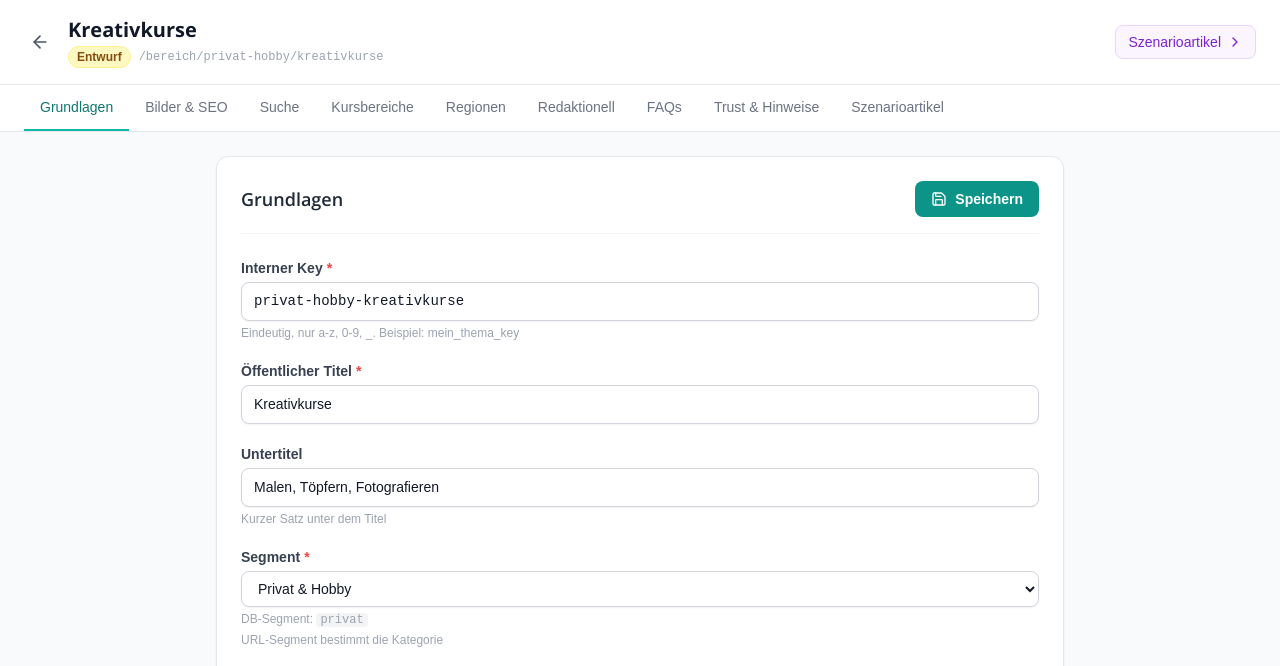
Scenario: section_titles: alle geforderten Überschriften sind bearbeitbar › zeigt den gespeicherten Wert von specialties_subheading
Click the button "Trust & Hinweise" at (767, 108), box 698,85 -> 835,131
(page scrolled)
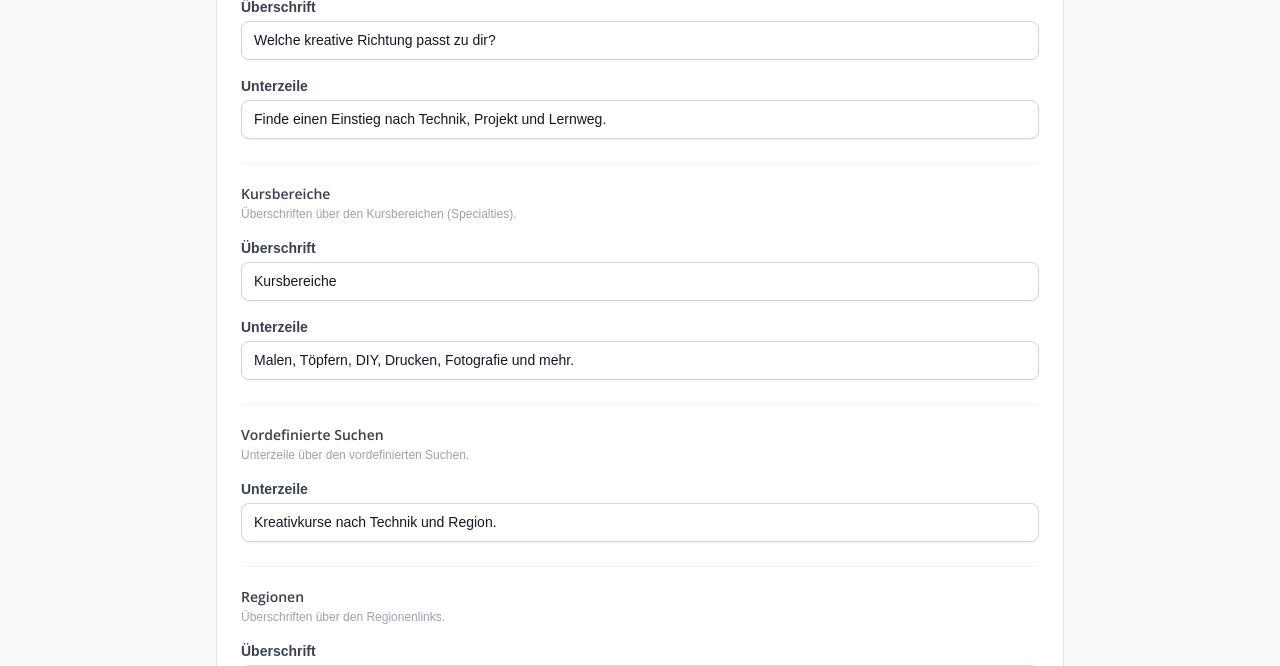
Now the 4th field holds "Malen, Töpfern, DIY, Drucken, Fotografie und mehr.", box 241,341 -> 1039,380
